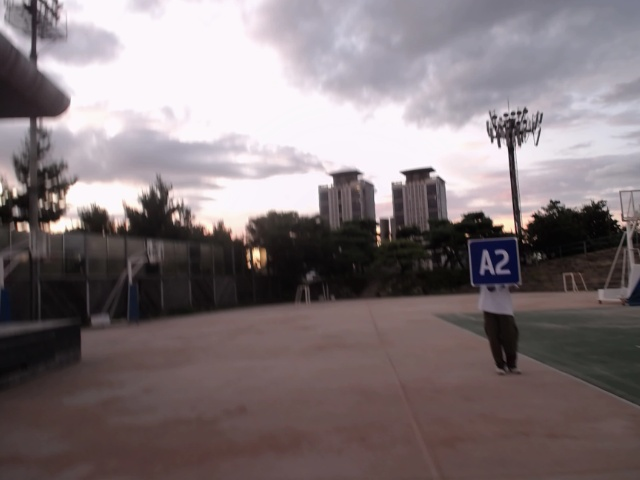delivery_a2: (469, 238, 520, 286)
